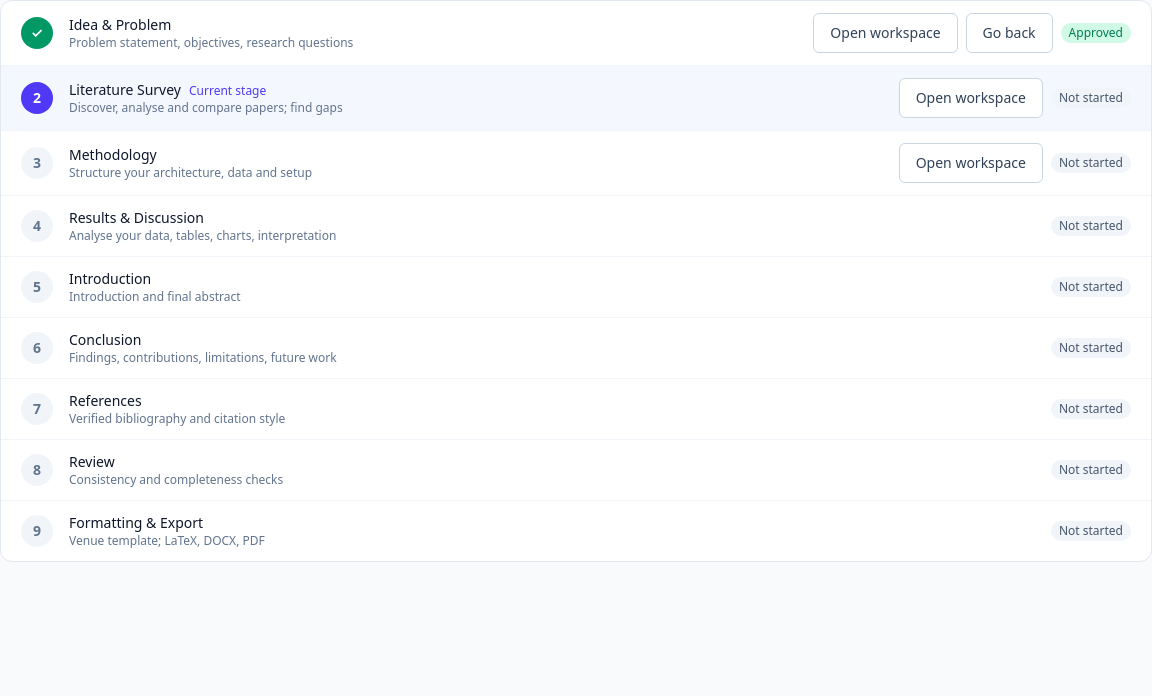
Scenario: StagesWorkspace › go back asks for confirmation, then shows the reopened review
Click the button "Go back": (1009, 33) top-left (966, 13), bottom-right (1053, 53)
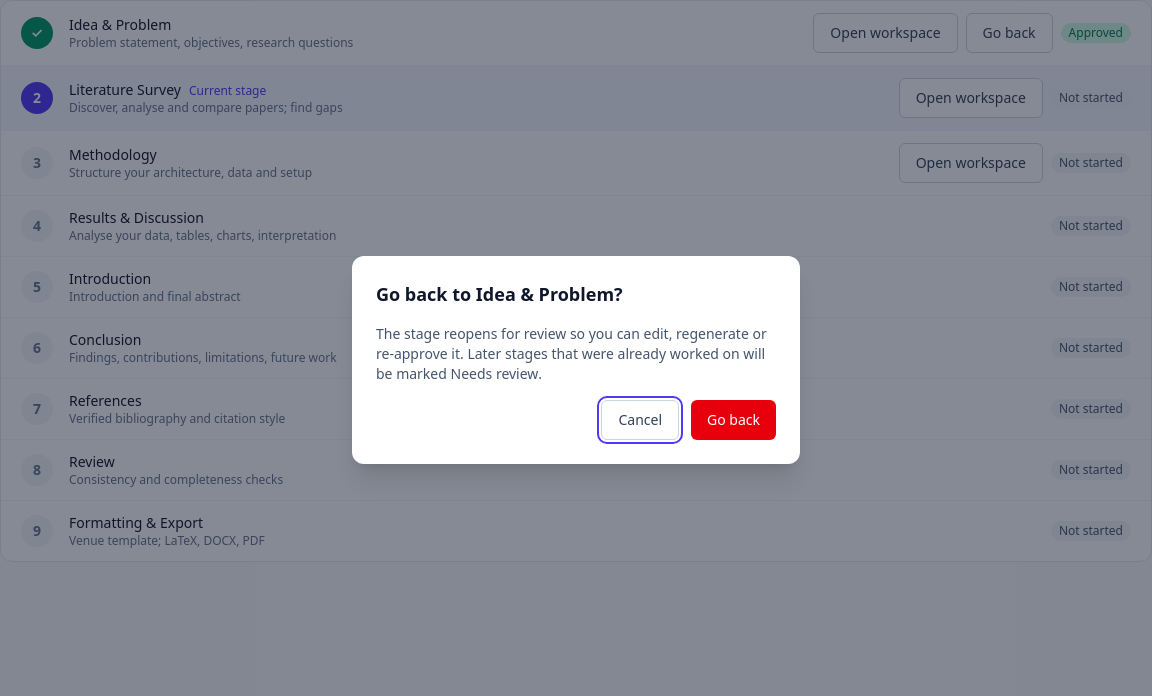
Click the button "Go back": (734, 420) top-left (691, 400), bottom-right (776, 440)
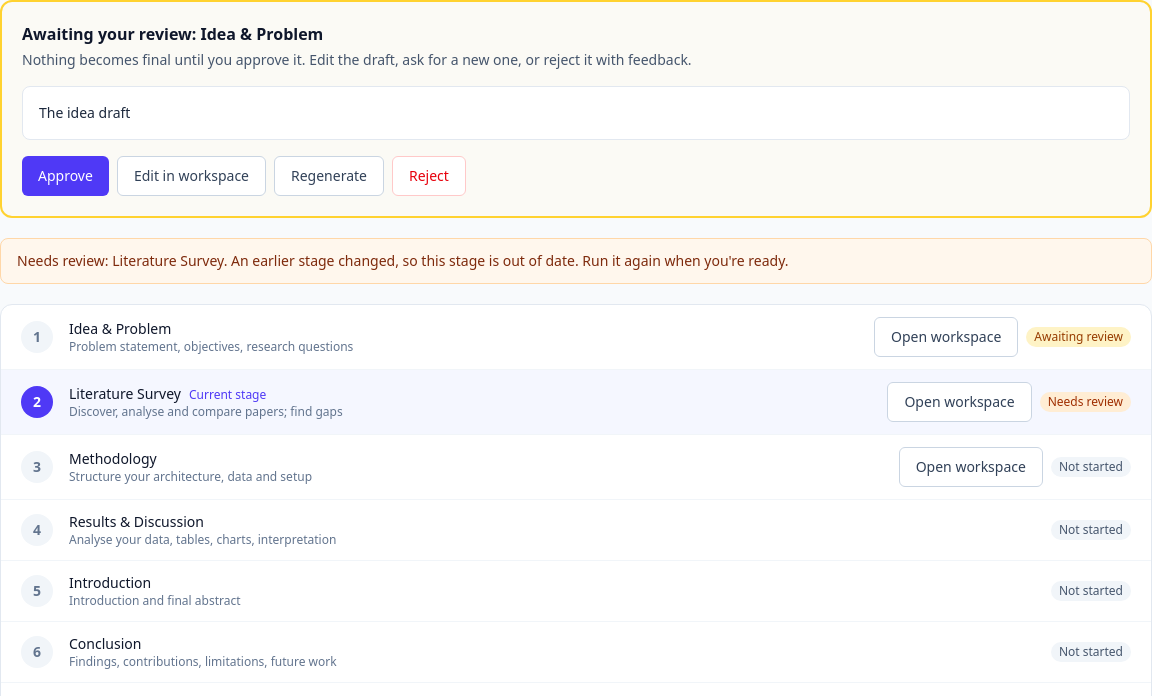
Expected: the heading "Awaiting your review: Idea & Problem" is shown, top-left (22, 23), bottom-right (323, 45)
Expected: the dialog is gone
